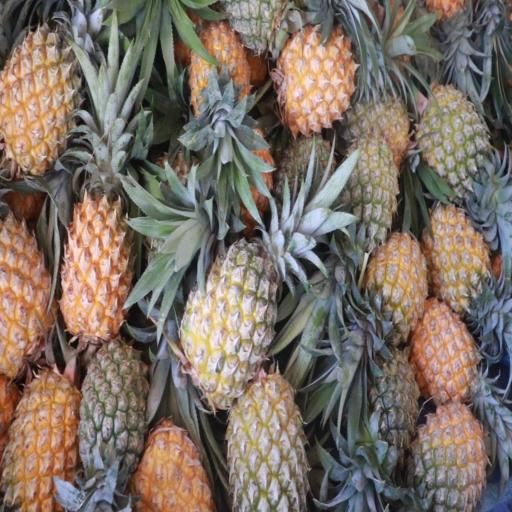------------------------------: (180, 246, 275, 404), (231, 381, 309, 512)
Pineapple - v8 v1: (0, 29, 82, 166), (3, 367, 78, 512), (60, 194, 129, 349), (0, 204, 55, 367), (278, 33, 354, 132), (425, 202, 489, 317), (413, 300, 478, 403), (137, 420, 208, 512), (368, 233, 429, 339), (190, 24, 251, 120)
